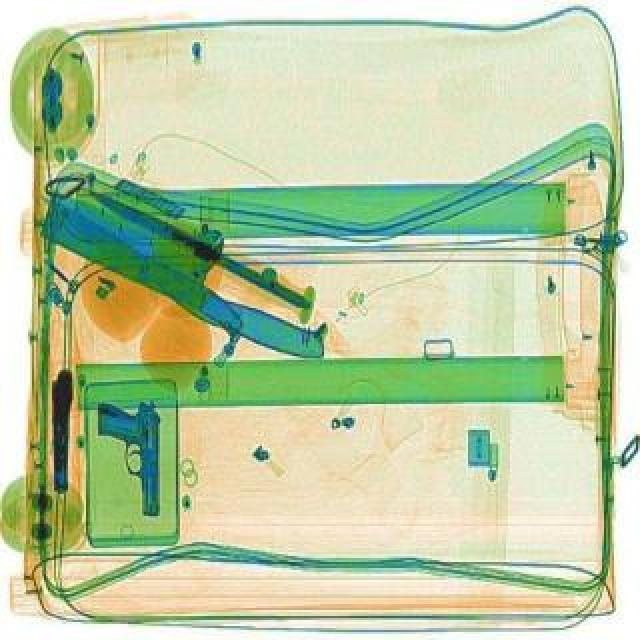gun: (96, 390, 160, 514), (48, 366, 74, 490)
knife: (26, 186, 344, 370), (26, 178, 250, 338), (74, 182, 314, 306)
